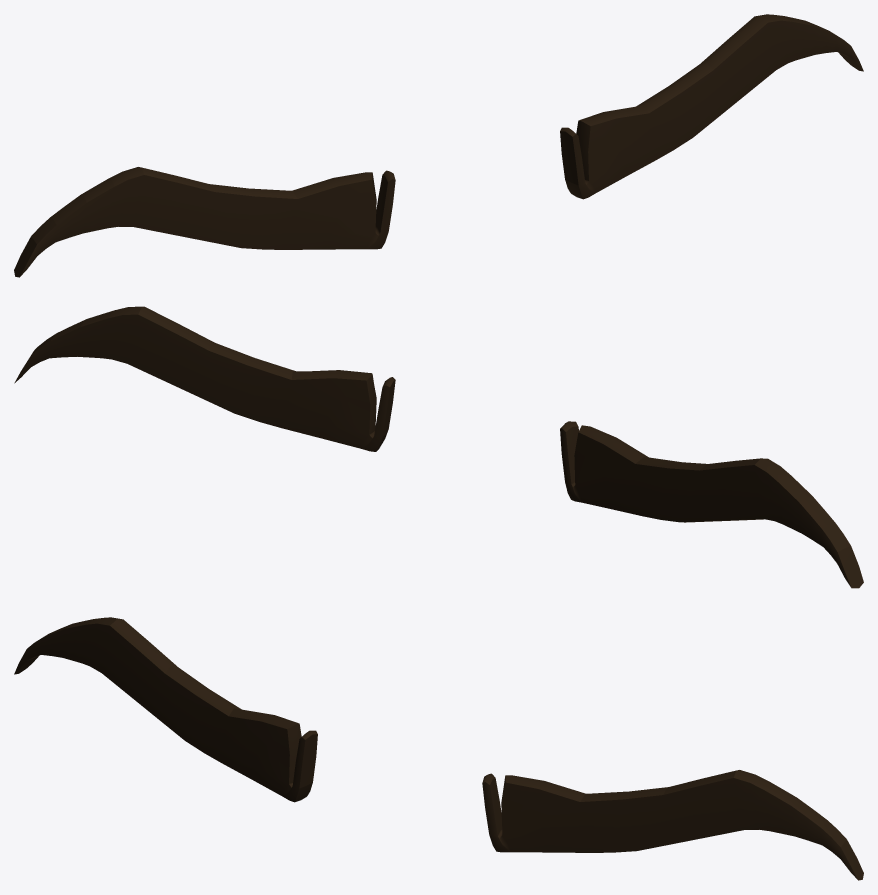
The model's file is eyebrows_brookie.glb.
The picture shows the model from 3 angles, top to bottom: view 1: azimuth 30°, elevation 25°; view 2: azimuth 150°, elevation 25°; view 3: azimuth 330°, elevation 25°; orthographic projection.
Visible parts, largest first — view 1: eyebrows_brookie; view 2: eyebrows_brookie; view 3: eyebrows_brookie.
Boxes of the visible parts, x1=… form: eyebrows_brookie: x1=14, y1=14, x2=863, y2=277; eyebrows_brookie: x1=14, y1=306, x2=863, y2=588; eyebrows_brookie: x1=14, y1=617, x2=863, y2=880.
Bounding box in the file's own units: 0.2375 × 0.0295 × 0.0252.
